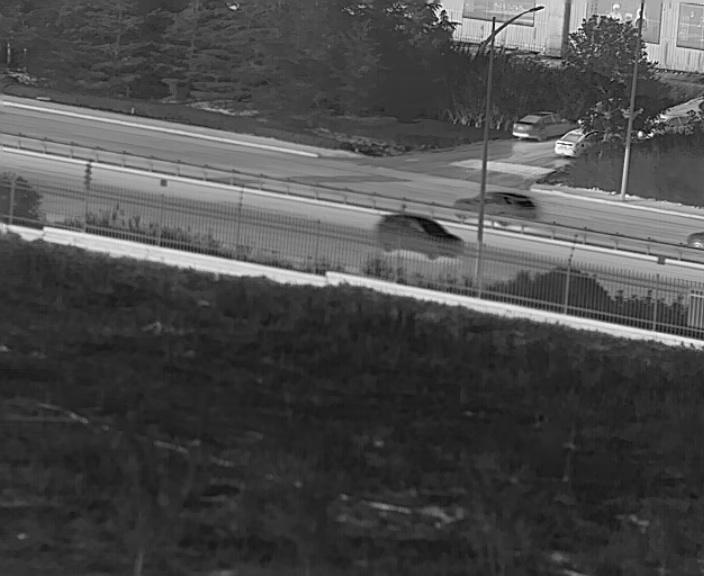vehicle: (371, 212, 466, 259), (452, 191, 534, 225), (511, 111, 565, 141), (554, 131, 588, 158)
